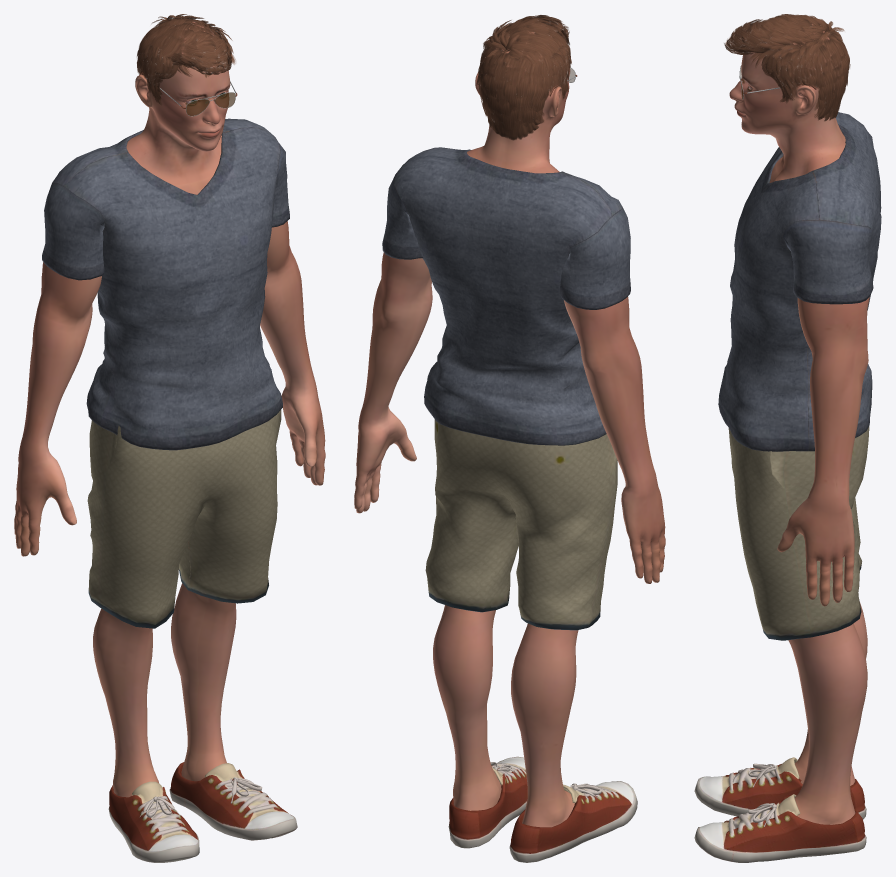
File: landmark-human.glb
3 renders of one model, left to right at view 1: azimuth 30°, elevation 25°; view 2: azimuth 150°, elevation 25°; view 3: azimuth 270°, elevation 25°, orthographic.
Visible parts, largest first — view 1: Object_18, Object_11, Object_19, Object_15, Object_13, Object_17; view 2: Object_18, Object_11, Object_19, Object_15, Object_13; view 3: Object_11, Object_18, Object_19, Object_15, Object_13.
Boxes of the visible parts, x1,y1,x2,y2 form: Object_18: [42, 118, 289, 450]; Object_11: [14, 21, 325, 797]; Object_19: [87, 409, 281, 628]; Object_15: [108, 762, 297, 862]; Object_13: [137, 14, 235, 105]; Object_17: [139, 72, 237, 116]; Object_18: [382, 147, 630, 445]; Object_11: [354, 31, 665, 827]; Object_19: [425, 419, 617, 630]; Object_15: [448, 756, 637, 862]; Object_13: [476, 15, 571, 140]; Object_11: [729, 24, 869, 824]; Object_18: [718, 112, 881, 451]; Object_19: [728, 361, 869, 640]; Object_15: [694, 757, 866, 862]; Object_13: [724, 14, 850, 121].
Size of the model in its own units: 0.389 by 1 by 0.2082.
6 materials, 6 textured.
